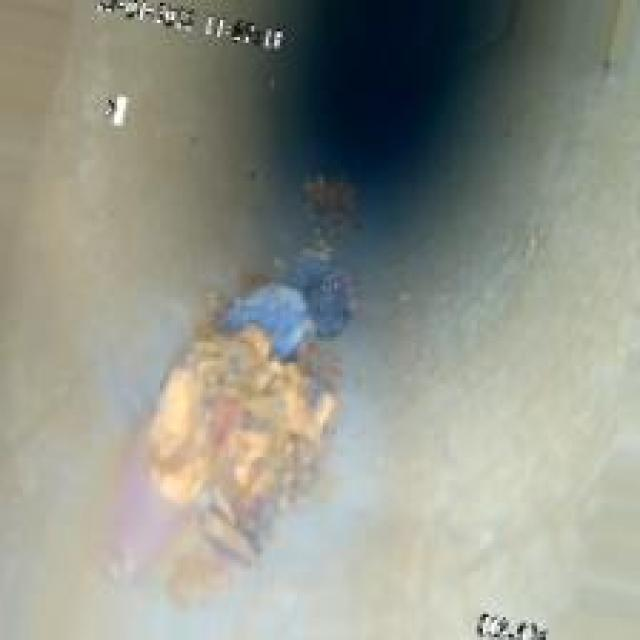stone: (143, 223, 406, 508)
